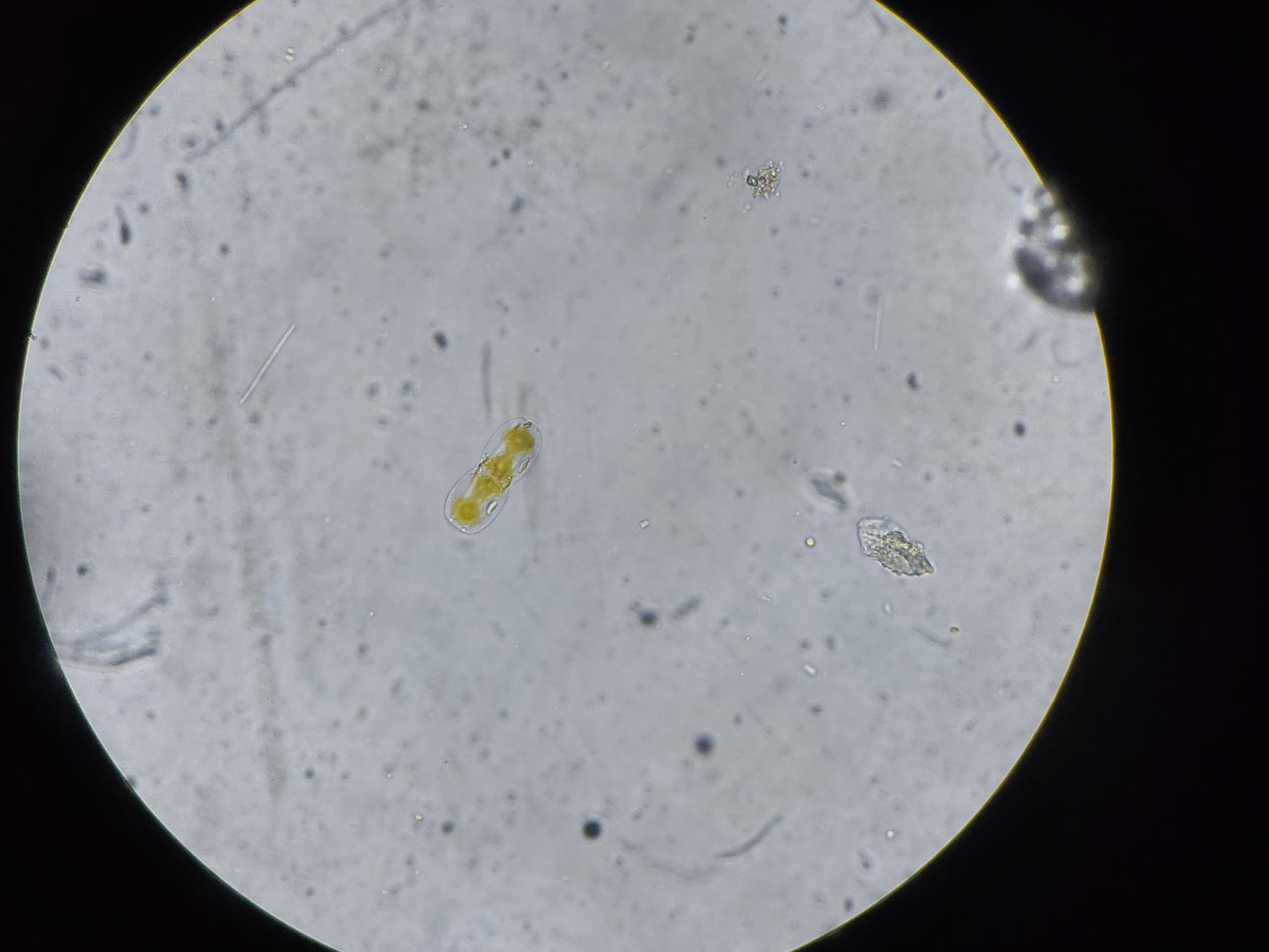Euglena: (439, 413, 555, 539)
